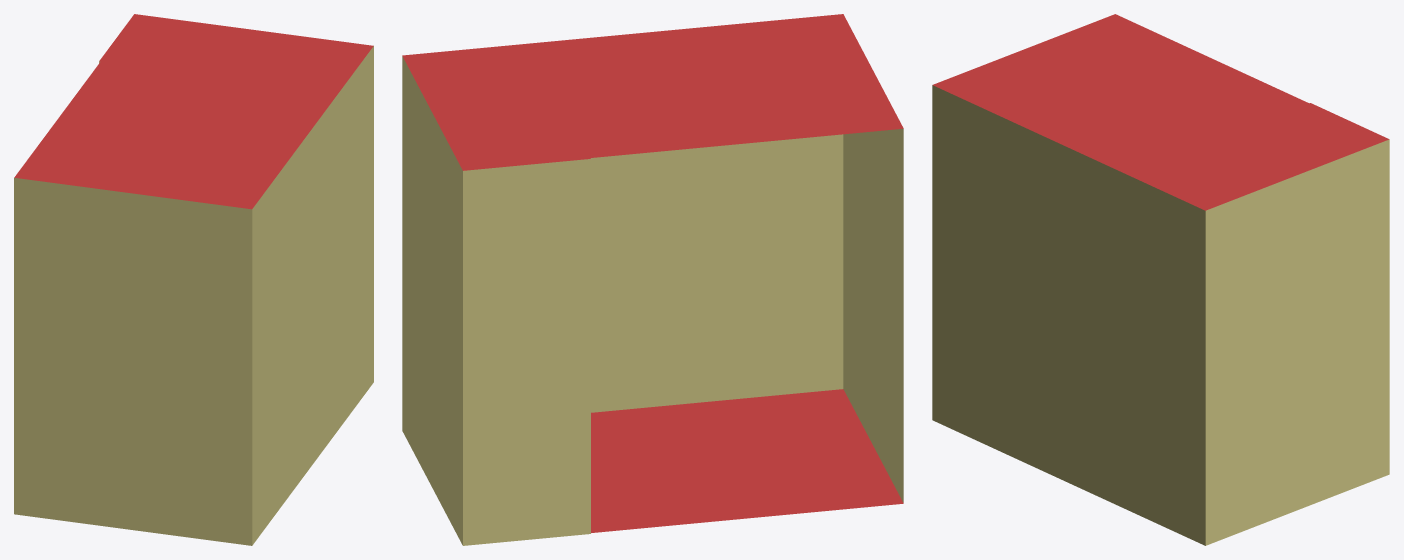
The picture shows the model from 3 angles, left to right: view 1: azimuth 30°, elevation 25°; view 2: azimuth 150°, elevation 25°; view 3: azimuth 270°, elevation 25°; orthographic projection. The views are drawn at different scales.
Size of the model in its own units: 6.68 by 6.56 by 5.31.
